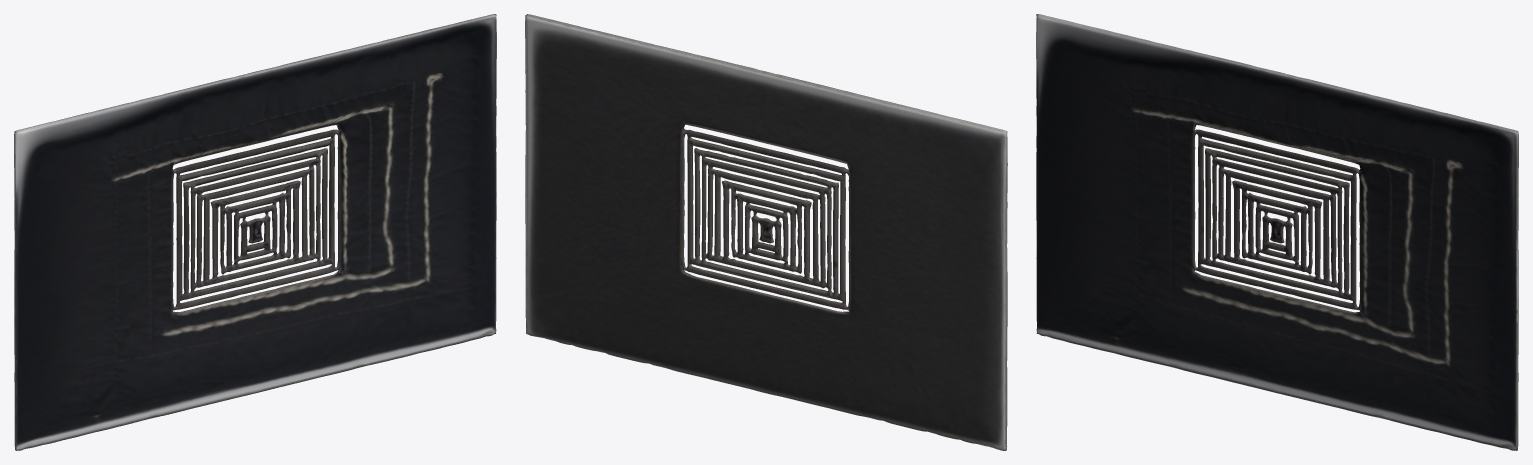
Rendered from sensor.glb.
3 renders of one model, left to right at view 1: azimuth 30°, elevation 25°; view 2: azimuth 150°, elevation 25°; view 3: azimuth 330°, elevation 25°, orthographic.
Bounding box in the file's own units: 2 × 1.28 × 0.0171.
1 material, 1 textured.
